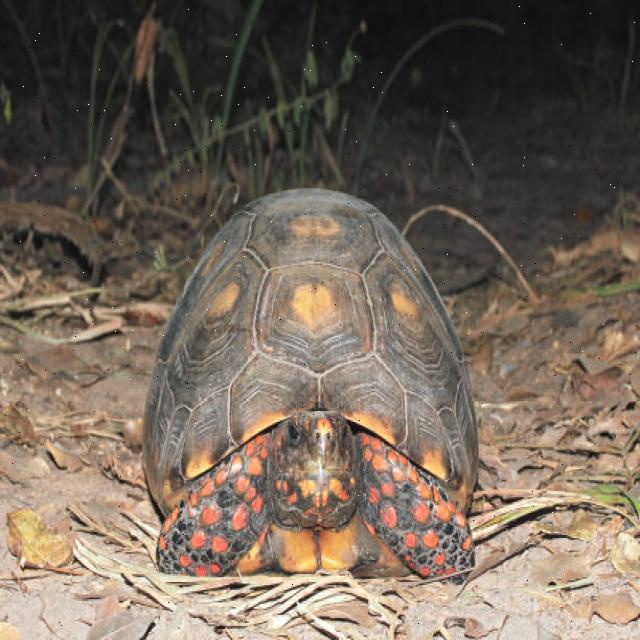tortoise: (142, 184, 478, 586)
